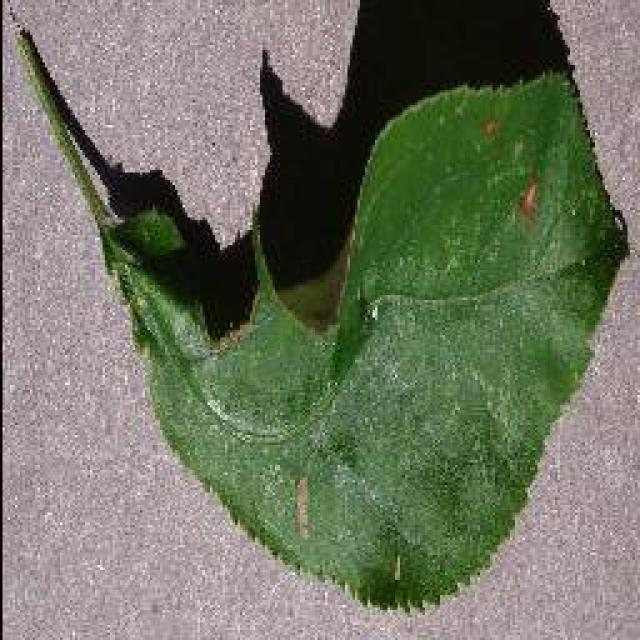apple black rot: (2, 0, 630, 615)
